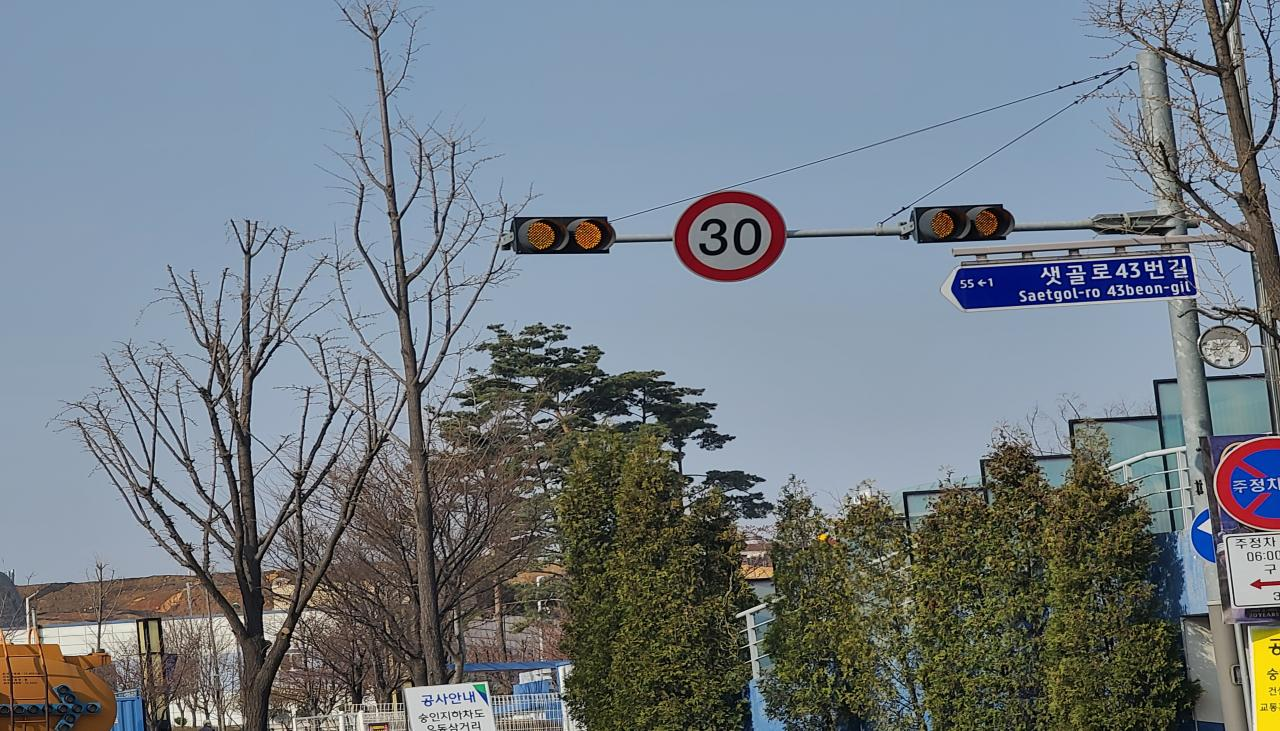Yellow Light: (567, 218, 608, 250), (520, 218, 559, 250), (923, 209, 960, 240), (970, 207, 1004, 239)
